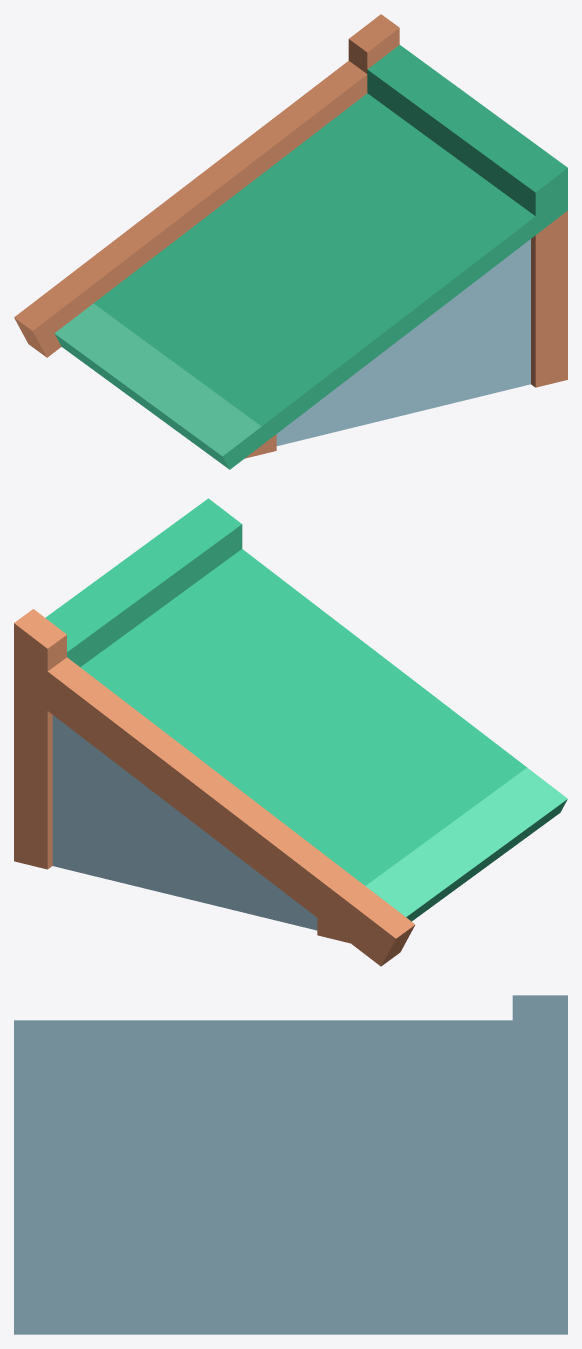
Rendered from roofLeft.fbx.
The picture shows the model from 3 angles, top to bottom: view 1: azimuth 30°, elevation 25°; view 2: azimuth 150°, elevation 25°; view 3: azimuth 270°, elevation 25°; orthographic projection. The views are drawn at different scales.
Parts seen in each view (by area): view 1: roofLeft; view 2: roofLeft; view 3: roofLeft.
Part boxes in pixels (x1,y1,x2,y2): roofLeft: (14,14,567,469); roofLeft: (14,498,567,966); roofLeft: (14,995,567,1334).
Bounding box in the file's own units: 11.34 × 7.21 × 10.
